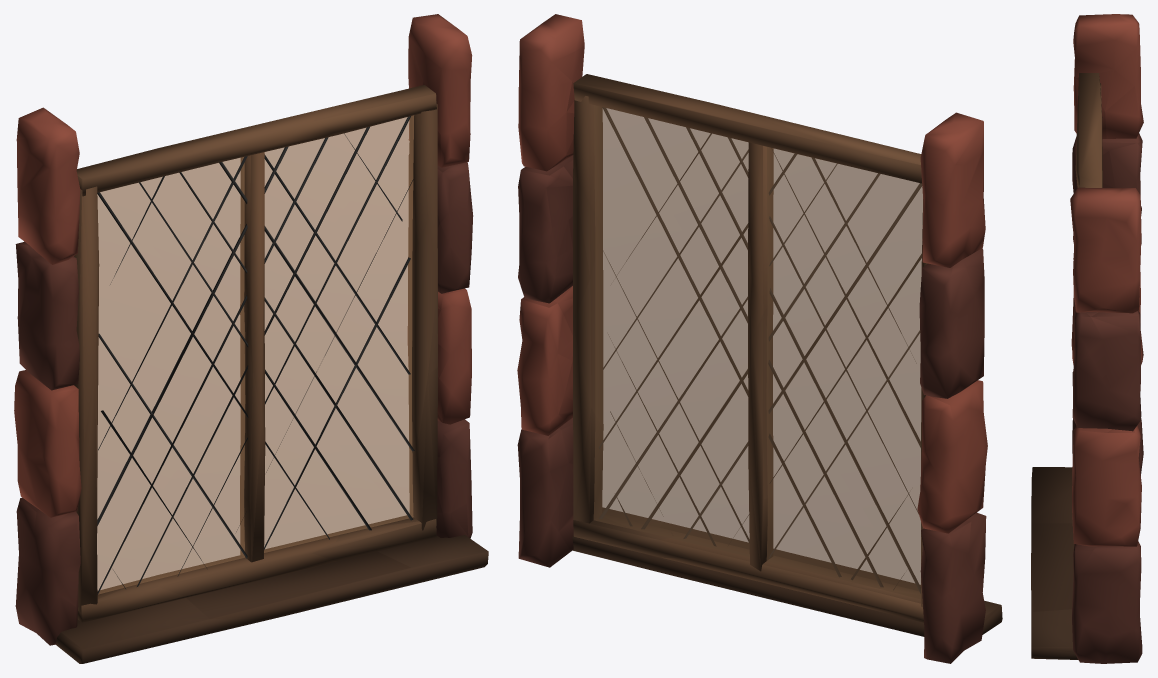
Rendered from ember_window_lod2.glb.
3 views of the same model, side by side, from view 1: azimuth 30°, elevation 25°; view 2: azimuth 150°, elevation 25°; view 3: azimuth 270°, elevation 25° (orthographic). The views are drawn at different scales.
Parts seen in each view (by area): view 1: ember_window.001; view 2: ember_window.001; view 3: ember_window.001.
Part boxes in pixels (box(x1,y1,x2,y2)): ember_window.001: box(14, 14, 488, 663); ember_window.001: box(517, 14, 1002, 663); ember_window.001: box(1031, 14, 1143, 663).
Bounding box in the file's own units: 52.4 × 60.17 × 13.17.
